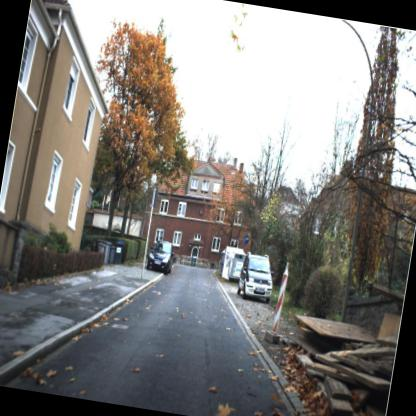mandatory: (239, 230, 254, 252)
